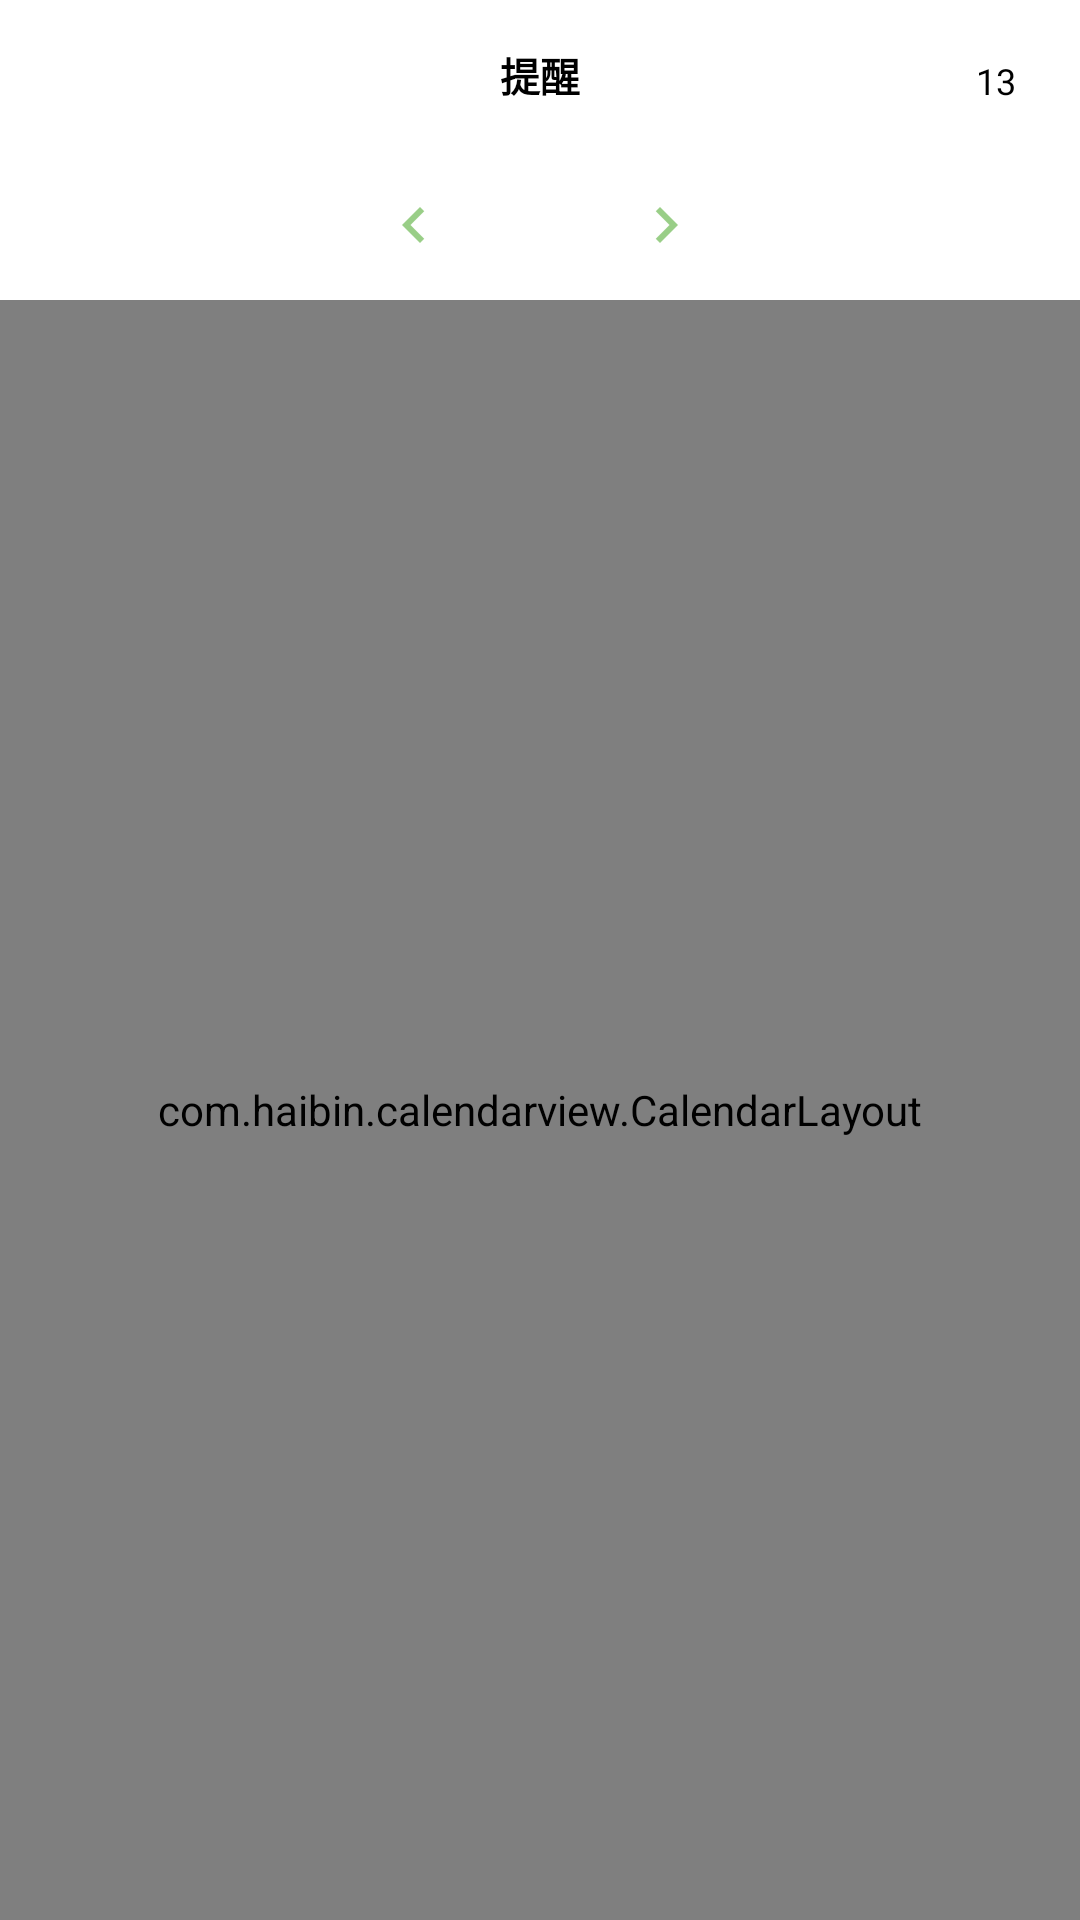

Icons on this 1080*1920 Android screen, each with the point to tap as point (x, y):
today navigate left: point (413, 225)
today navigate right: point (667, 225)
